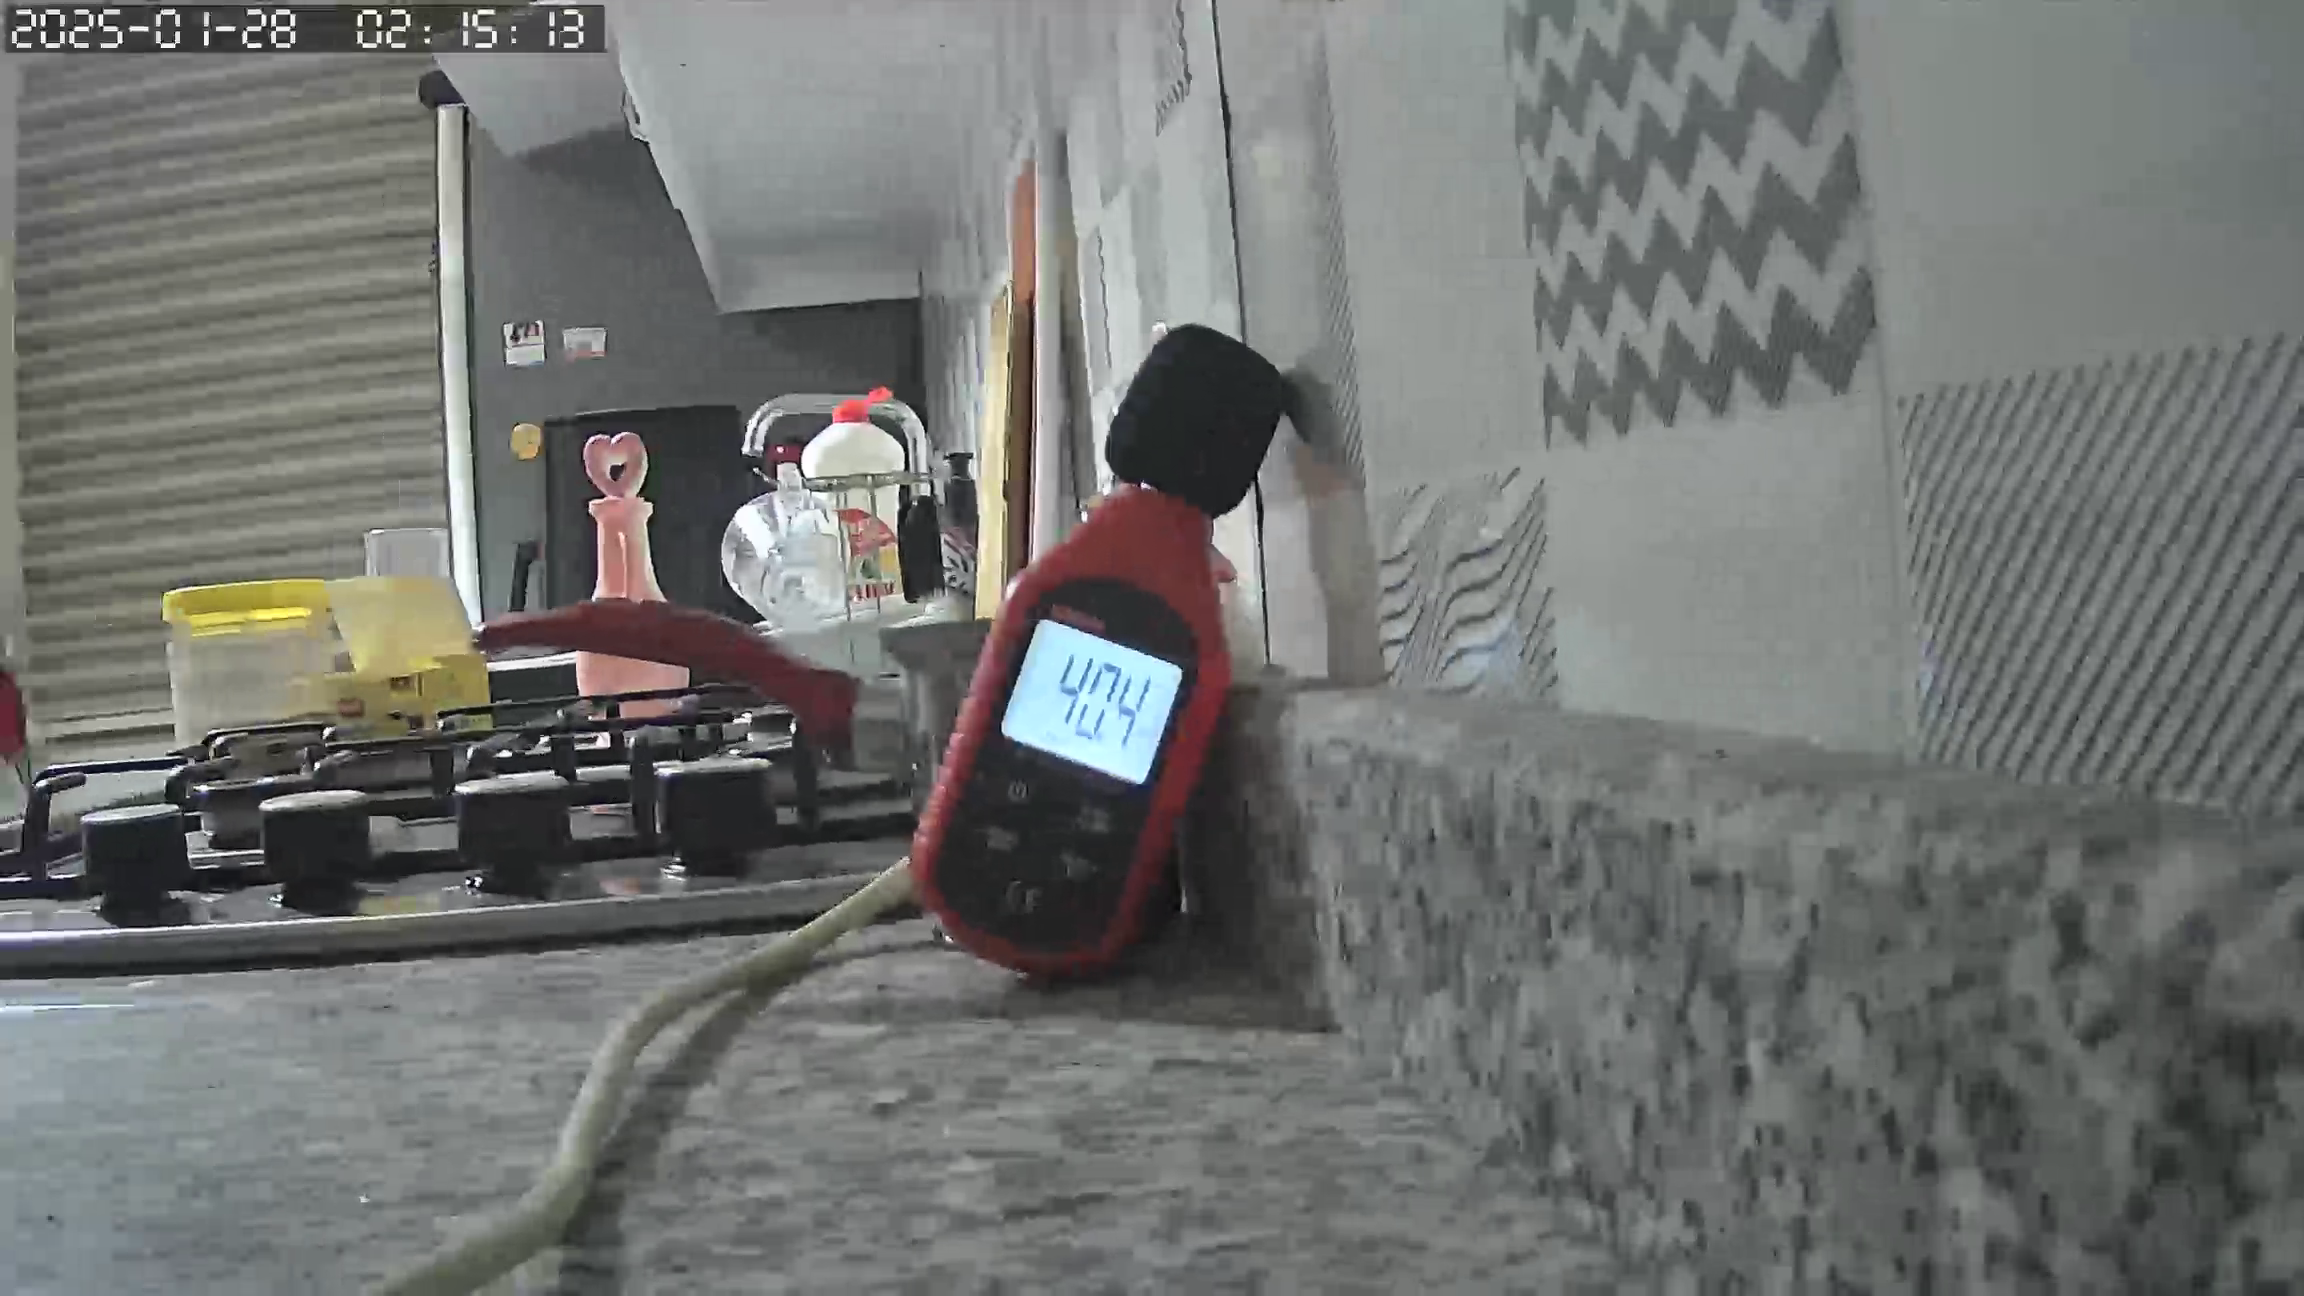screen: (995, 616, 1180, 782)
